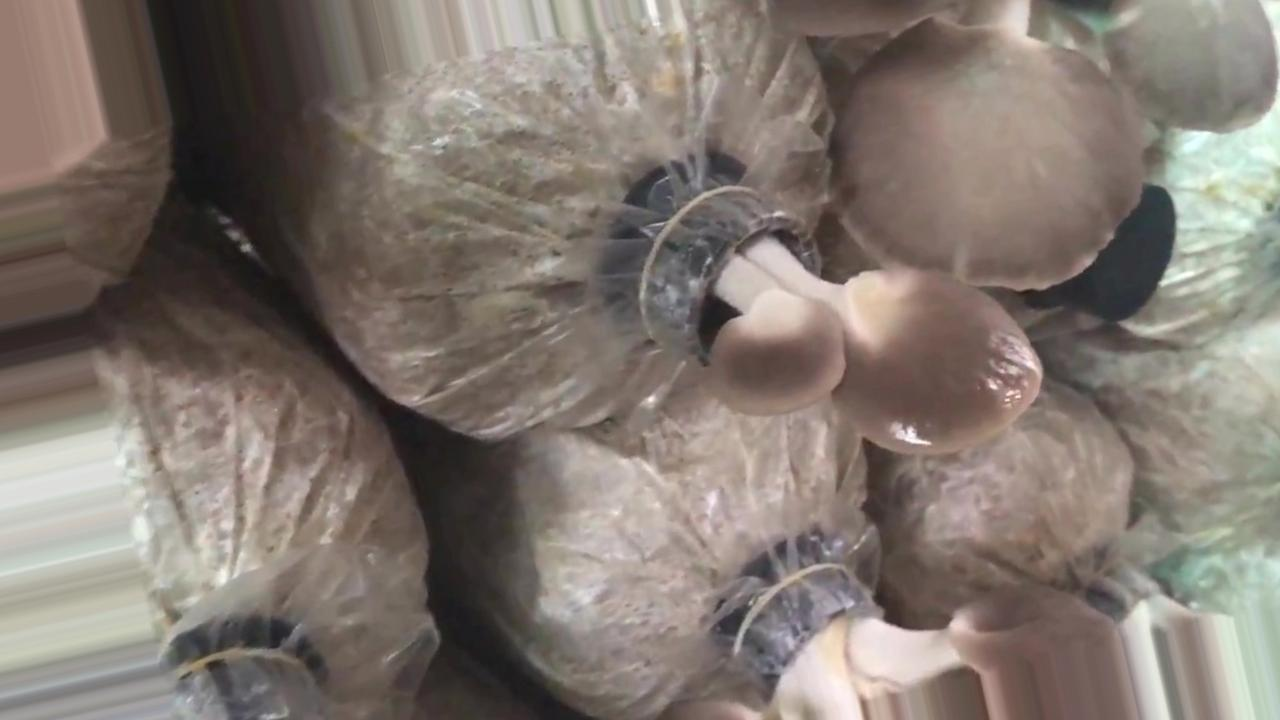nam: (775, 1, 1280, 291), (636, 181, 1048, 460), (663, 567, 1253, 717)
